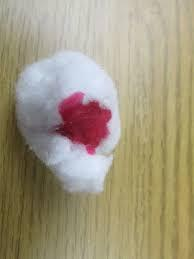cotton: (16, 51, 119, 192), (56, 92, 111, 153), (51, 152, 111, 192)
